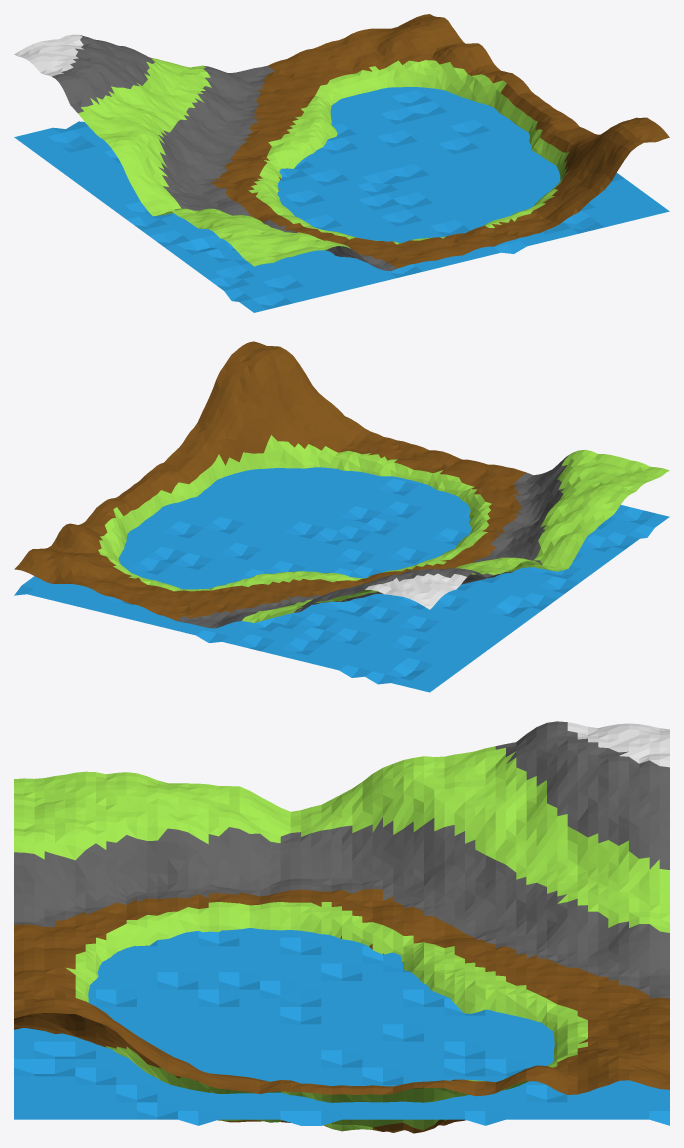
Rendered from 호수배경테스트.fbx.
3 renders of one model, top to bottom at view 1: azimuth 30°, elevation 25°; view 2: azimuth 150°, elevation 25°; view 3: azimuth 270°, elevation 25°, orthographic. The views are drawn at different scales.
Visible parts, largest first — view 1: Plane, Plane.001; view 2: Plane.001, Plane; view 3: Plane, Plane.001.
Boxes of the visible parts, left/top/right/bottom form: Plane: left=14, top=14, right=669, bottom=271; Plane.001: left=14, top=87, right=669, bottom=312; Plane.001: left=14, top=467, right=669, bottom=692; Plane: left=14, top=341, right=669, bottom=628; Plane: left=14, top=721, right=669, bottom=1133; Plane.001: left=14, top=928, right=669, bottom=1125.
Size of the model in its own units: 3200 by 917 by 3200.
